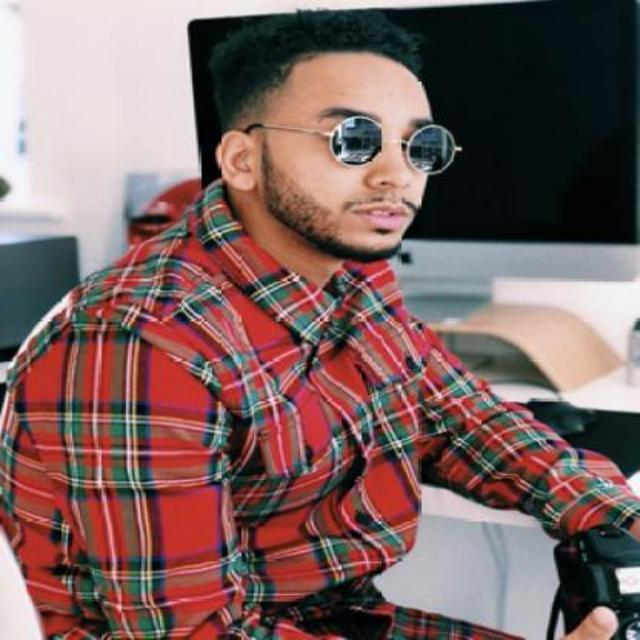glasses: (242, 116, 460, 174)
